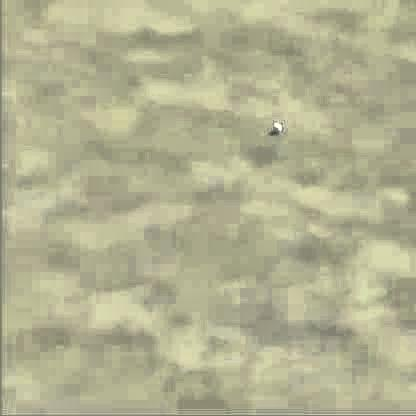golfball: (268, 118, 281, 131)
